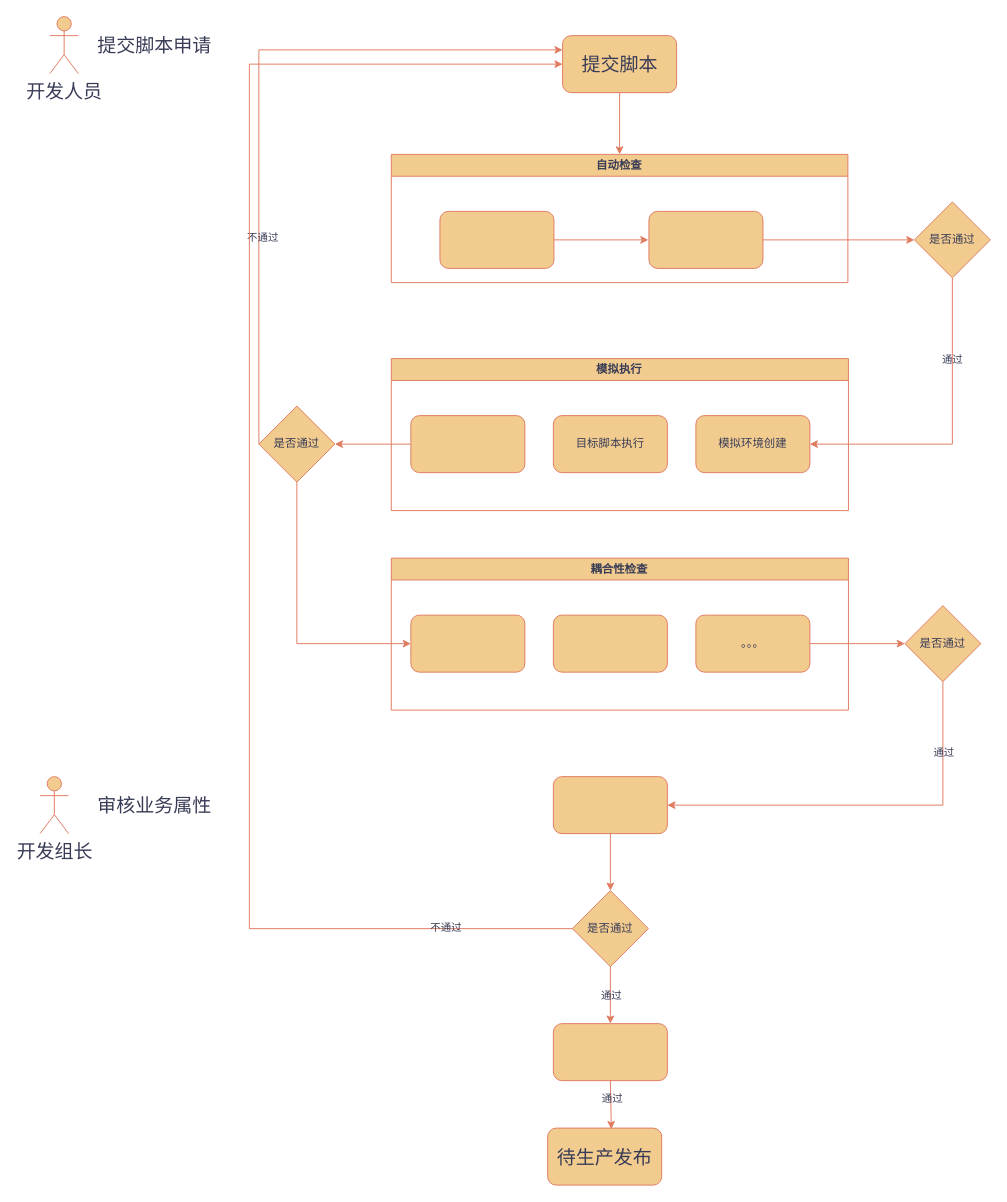
This 1007x1202 diagram has some shape labels left out. The centre of each missing label's shape, as x and y in pixels:
"人工审核" belongs at [609,805].
"变化量对比" belongs at [467,444].
"套表检查" belongs at [467,643].
"敏感操作检查" belongs at [705,239].
"测试执行" belongs at [609,1052].
"耦合库检查" belongs at [609,643].
"语法检查" belongs at [496,239].
